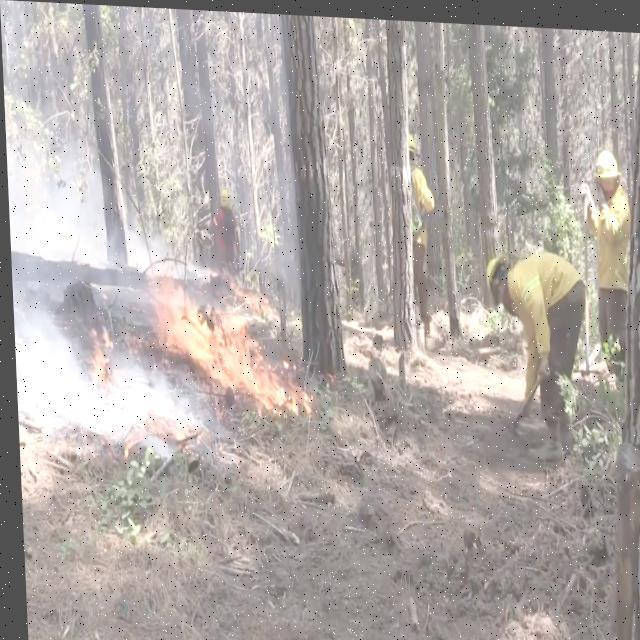Fire: (144, 269, 313, 415), (115, 416, 191, 458), (223, 274, 272, 318), (81, 344, 108, 391)
